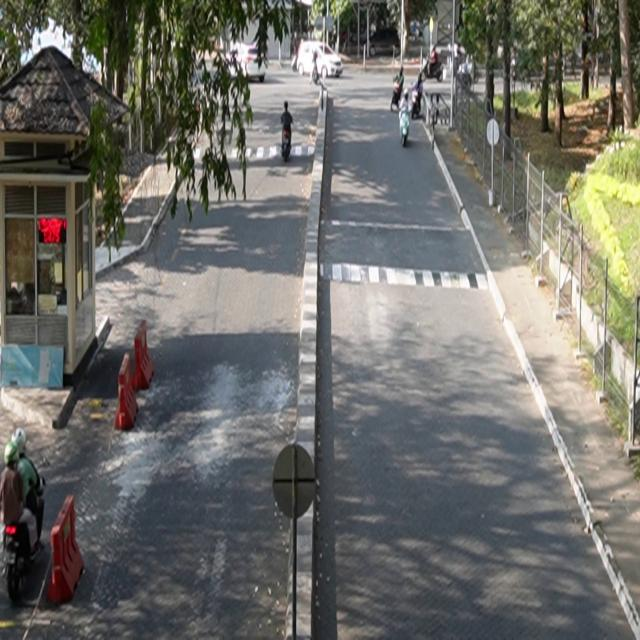car: (292, 40, 344, 79)
